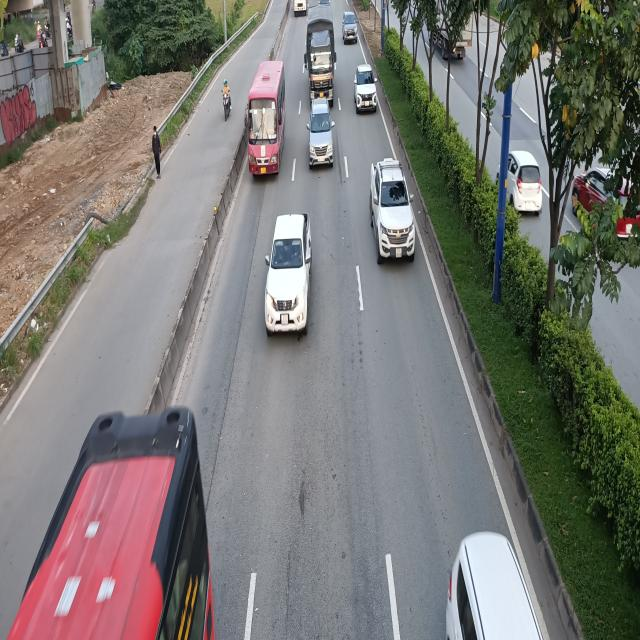car: (264, 214, 313, 340), (370, 157, 415, 262), (307, 98, 335, 169), (353, 64, 377, 115), (342, 11, 358, 45)
coach: (246, 59, 286, 175)
truck: (307, 6, 336, 100)
